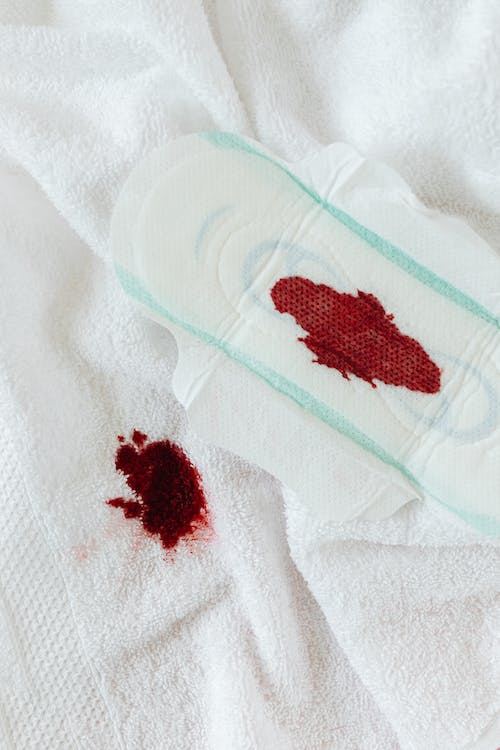blood: (267, 273, 443, 397), (103, 428, 216, 566)
